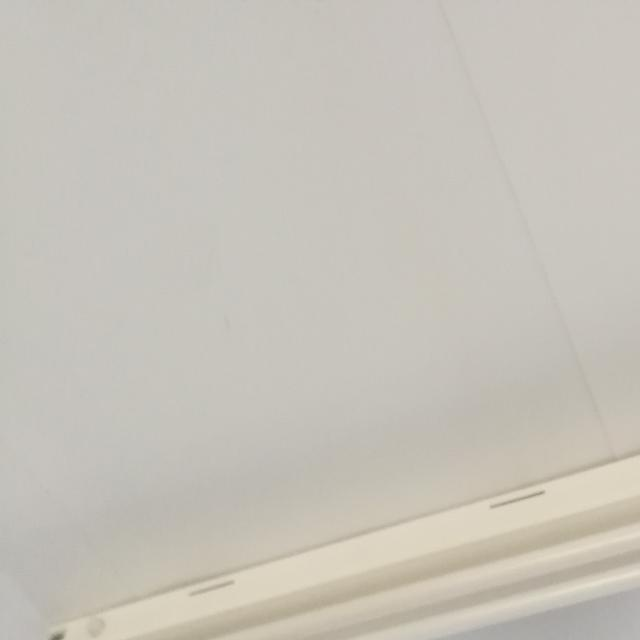fluorescent tube: (29, 271, 640, 640)
